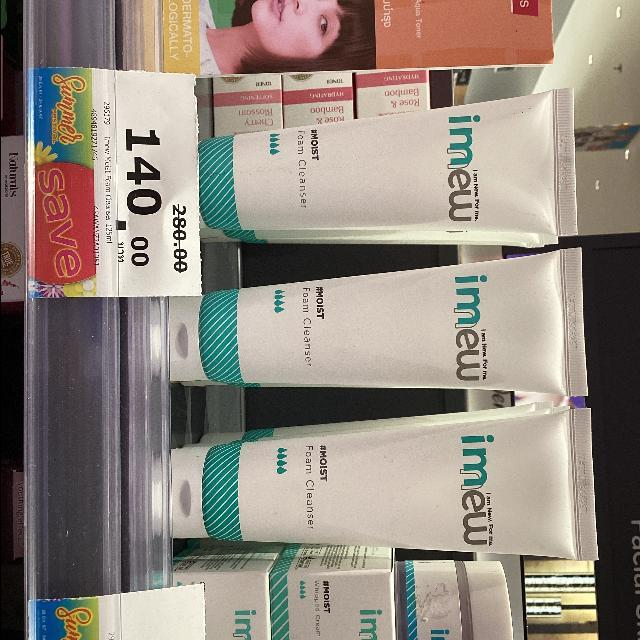Squeeze Tube: (140, 66, 632, 610), (170, 401, 595, 563), (194, 83, 575, 250), (161, 247, 586, 396)
